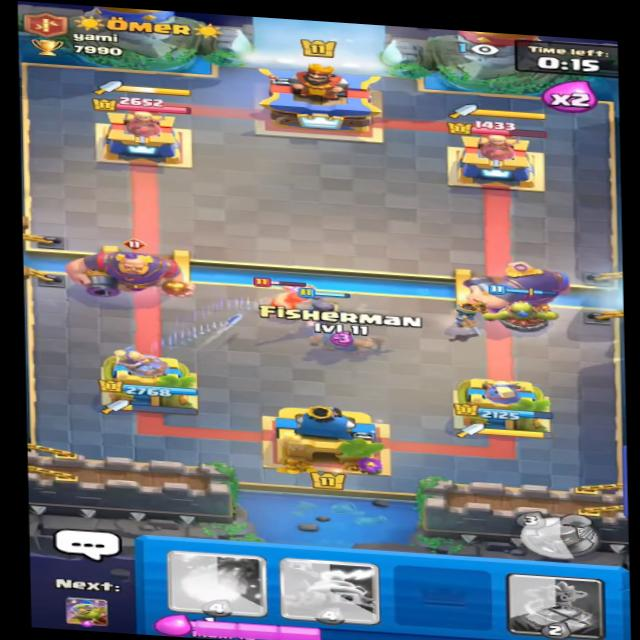evo-royal-giant: (59, 232, 198, 305)
lumberjack: (242, 275, 317, 317)
